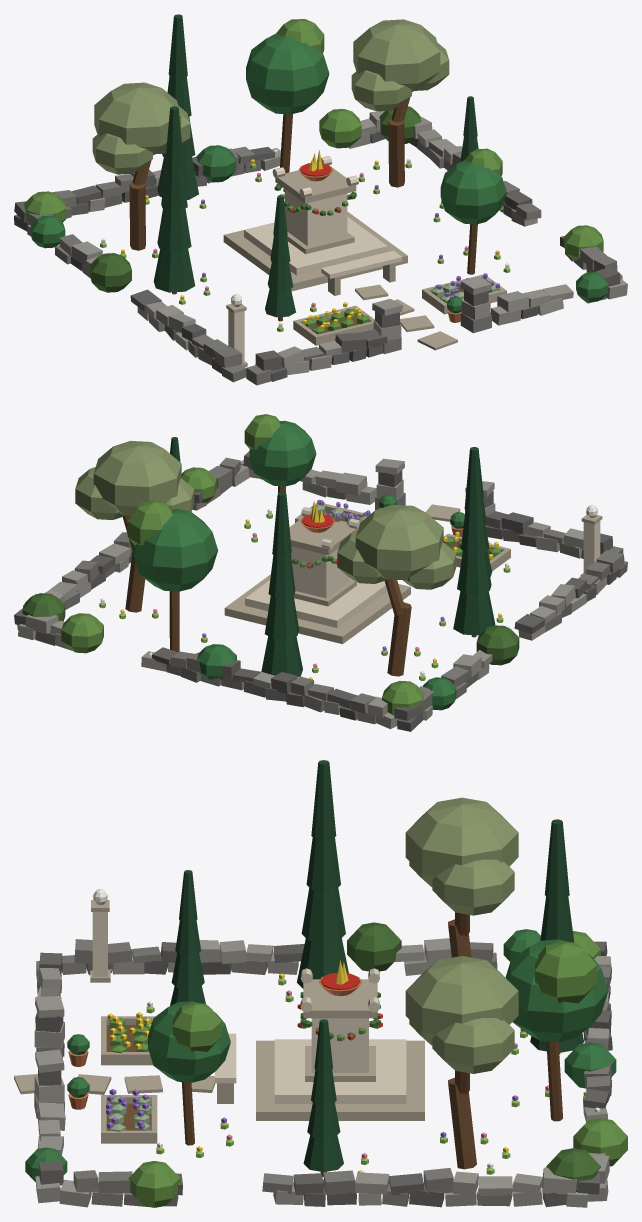
The model's file is HeiligerHain.fbx.
The picture shows the model from 3 angles, top to bottom: view 1: azimuth 30°, elevation 25°; view 2: azimuth 150°, elevation 25°; view 3: azimuth 270°, elevation 25°; orthographic projection. The views are drawn at different scales.
Parts seen in each view (by area): view 1: HeiligerHain_0; view 2: HeiligerHain_0; view 3: HeiligerHain_0.
Boxes of the visible parts, left/top/right/bottom form: HeiligerHain_0: left=14, top=14, right=627, bottom=385; HeiligerHain_0: left=14, top=414, right=627, bottom=731; HeiligerHain_0: left=14, top=760, right=627, bottom=1207.
Bounding box in the file's own units: 3.61 × 1.53 × 3.63.
